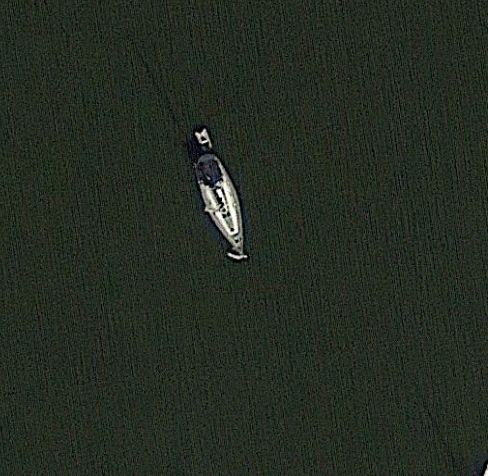boat: (184, 129, 251, 263)
